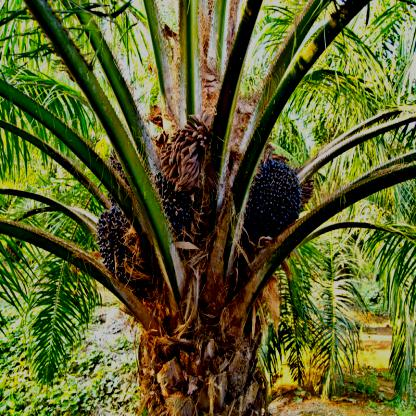palm-oil: (244, 156, 304, 250), (94, 205, 154, 293), (152, 171, 203, 238)
